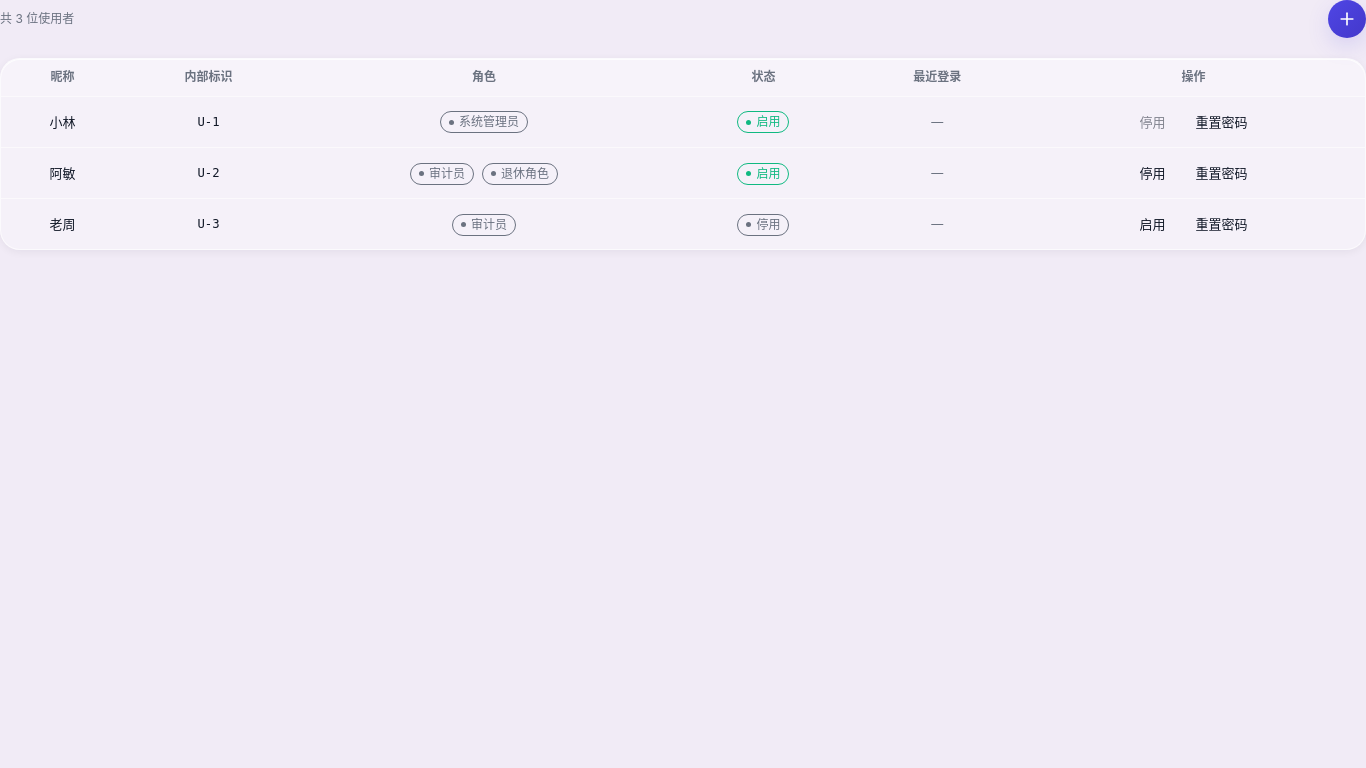
Test: 用户管理：按钮随权限收放 › 重置主密码改为弹窗提交，成功后关闭
The width and height of the screenshot is (1366, 768).
Click the button "重置密码" in the row of "阿敏" at (1221, 173), box [1184,157,1258,189]
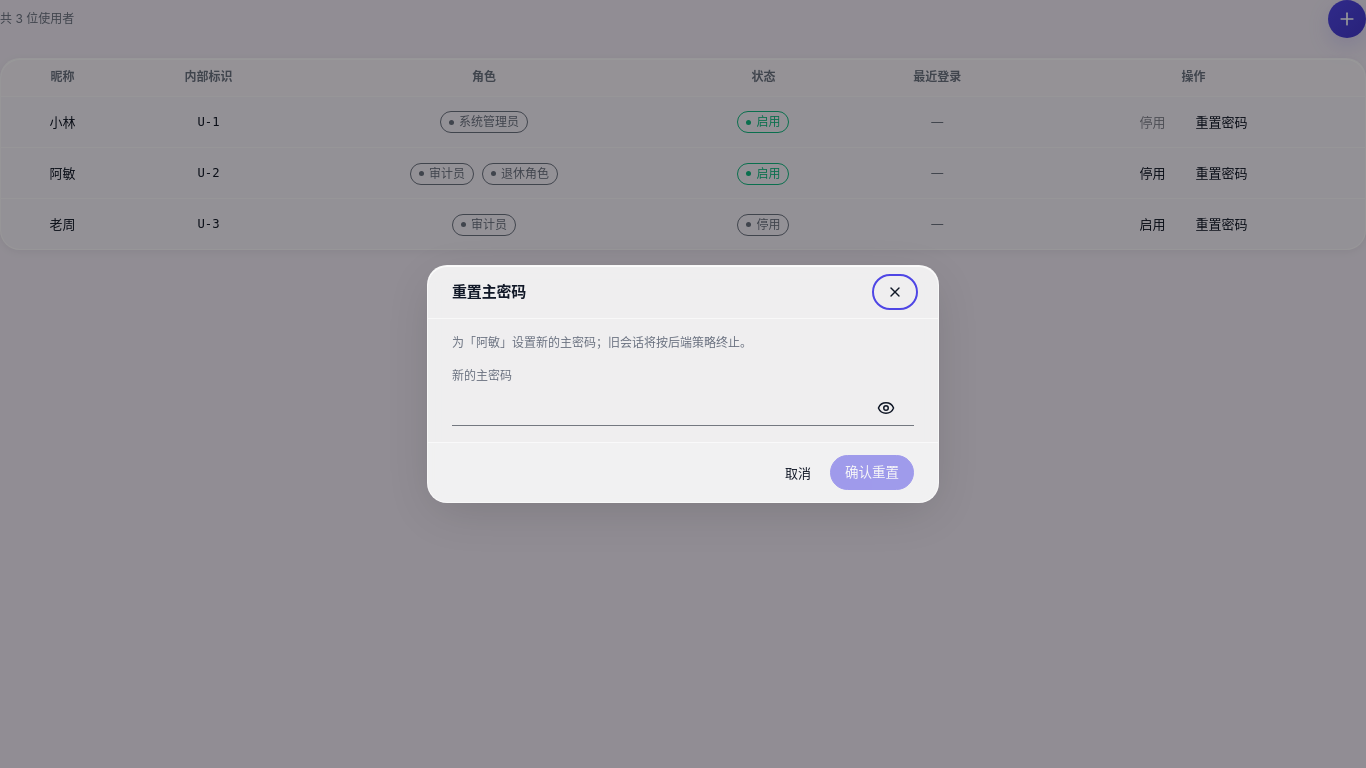
Type "new-pw" into the password field labelled "新的主密码" at (683, 408), box [452,390,914,425]
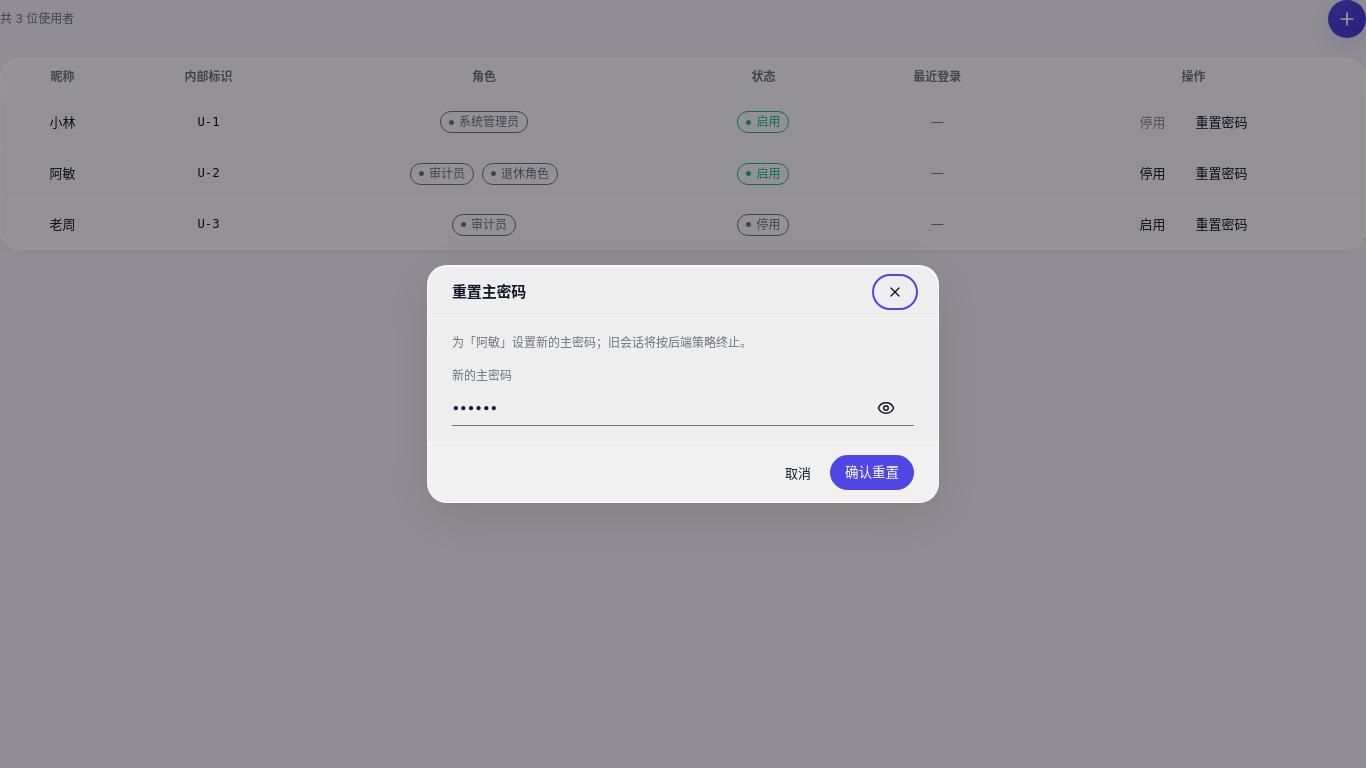
Click the button "确认重置" at (872, 473), box [830,455,914,490]
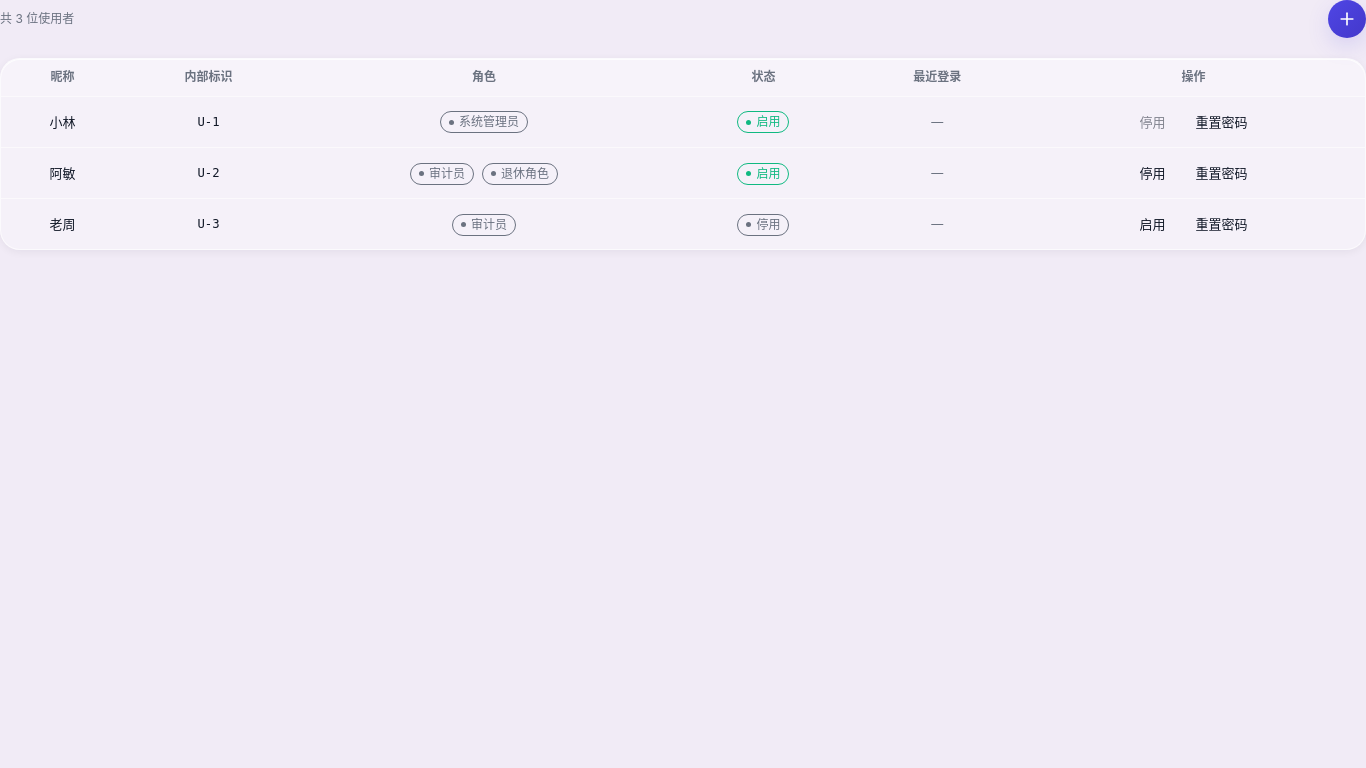
Check: the heading "重置主密码" is gone
